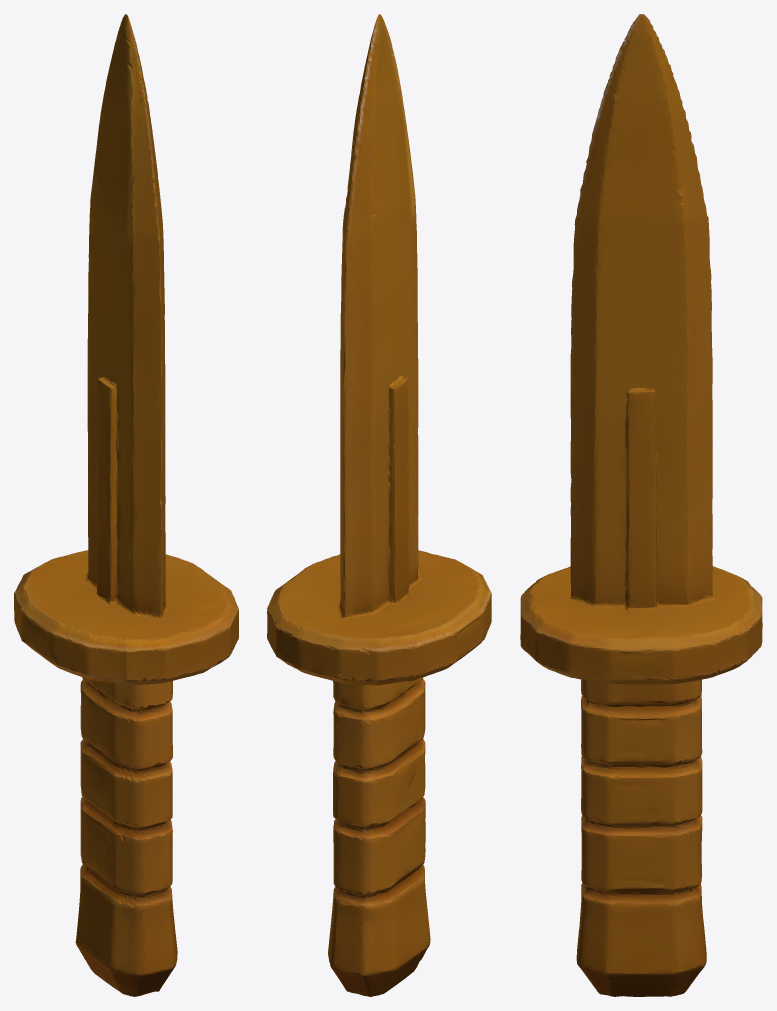
3 views of the same model, side by side, from view 1: azimuth 30°, elevation 25°; view 2: azimuth 150°, elevation 25°; view 3: azimuth 270°, elevation 25° (orthographic).
Visible parts, largest first — view 1: 6; view 2: 6; view 3: 6.
Part boxes in pixels (bbox=[...]): 6: bbox=[14, 14, 238, 996]; 6: bbox=[267, 14, 491, 996]; 6: bbox=[520, 14, 762, 996].
Bounding box in the file's own units: 0.1752 × 0.9 × 0.2027.
Materials: 1 (1 with a texture image).
